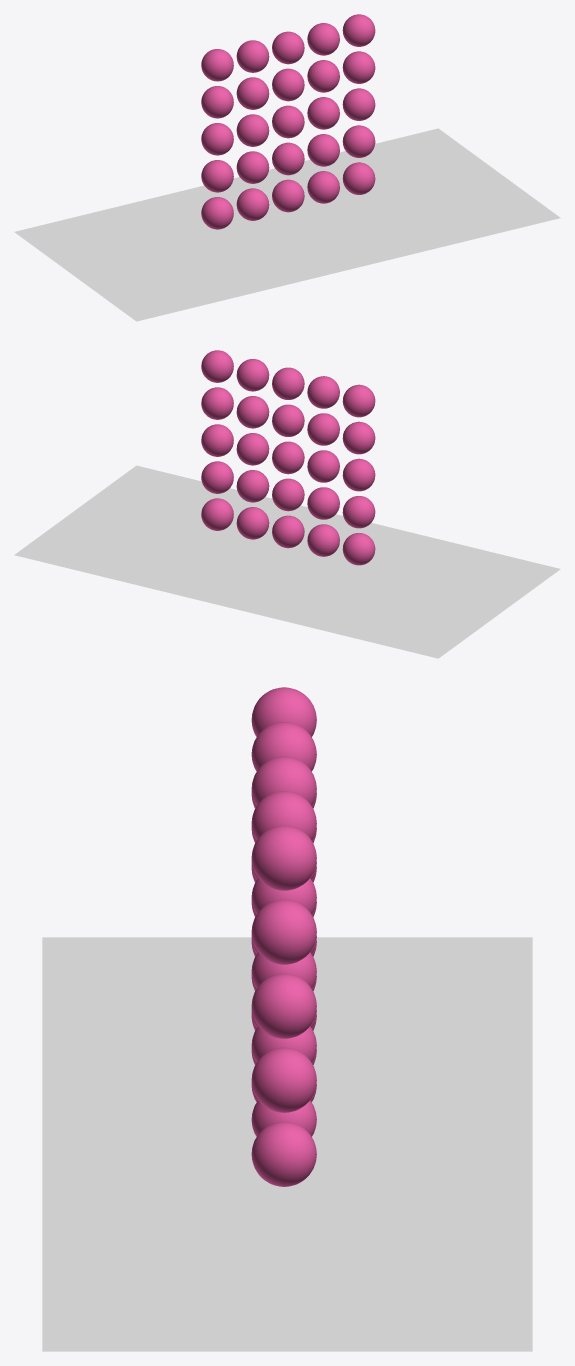
File: pbr_scene.gltf
The picture shows the model from 3 angles, top to bottom: view 1: azimuth 30°, elevation 25°; view 2: azimuth 150°, elevation 25°; view 3: azimuth 270°, elevation 25°; orthographic projection. The views are drawn at different scales.
Visible parts, largest first — view 1: Plane, Sphere.002, Sphere.007, Sphere.020, Sphere.003, Sphere.010, Sphere.012, Sphere.015, Sphere, Sphere.008, Sphere.017, Sphere.022 (+14 smaller); view 2: Plane, Sphere.001, Sphere.004, Sphere.006, Sphere.012, Sphere.014, Sphere.017, Sphere.022, Sphere.009, Sphere.010, Sphere.011, Sphere.016 (+14 smaller); view 3: Plane, Sphere.024, Sphere.009, Sphere.004, Sphere.019, Sphere.014, Sphere.022, Sphere.020, Sphere.023, Sphere.021, Sphere.018, Sphere.013 (+2 smaller).
Boxes of the visible parts, <box> form: Plane: <box>14,128,560,321</box>; Sphere.002: <box>201,197,233,229</box>; Sphere.007: <box>201,160,233,192</box>; Sphere.020: <box>272,31,304,64</box>; Sphere.003: <box>307,171,339,203</box>; Sphere.010: <box>272,105,304,138</box>; Sphere.012: <box>201,123,233,155</box>; Sphere.015: <box>272,68,304,101</box>; Sphere: <box>272,179,304,212</box>; Sphere.008: <box>307,134,339,166</box>; Sphere.017: <box>201,86,233,118</box>; Sphere.022: <box>201,49,233,81</box>; Plane: <box>14,465,560,658</box>; Sphere.001: <box>307,524,339,556</box>; Sphere.004: <box>201,498,233,530</box>; Sphere.006: <box>307,487,339,519</box>; Sphere.012: <box>342,458,375,491</box>; Sphere.014: <box>201,424,233,456</box>; Sphere.017: <box>342,421,375,454</box>; Sphere.022: <box>342,384,375,417</box>; Sphere.009: <box>201,461,233,493</box>; Sphere.010: <box>272,441,304,474</box>; Sphere.011: <box>307,450,339,482</box>; Sphere.016: <box>307,413,339,445</box>; Plane: <box>42,937,532,1351</box>; Sphere.024: <box>251,825,316,890</box>; Sphere.009: <box>251,1047,316,1112</box>; Sphere.004: <box>251,1121,316,1186</box>; Sphere.019: <box>251,899,316,964</box>; Sphere.014: <box>251,973,316,1038</box>; Sphere.022: <box>251,687,316,736</box>; Sphere.020: <box>251,756,316,805</box>; Sphere.023: <box>251,791,316,840</box>; Sphere.021: <box>251,722,316,771</box>; Sphere.018: <box>251,878,316,914</box>; Sphere.013: <box>251,952,316,988</box>.
Bounding box in the file's own units: 30 × 13 × 15.
